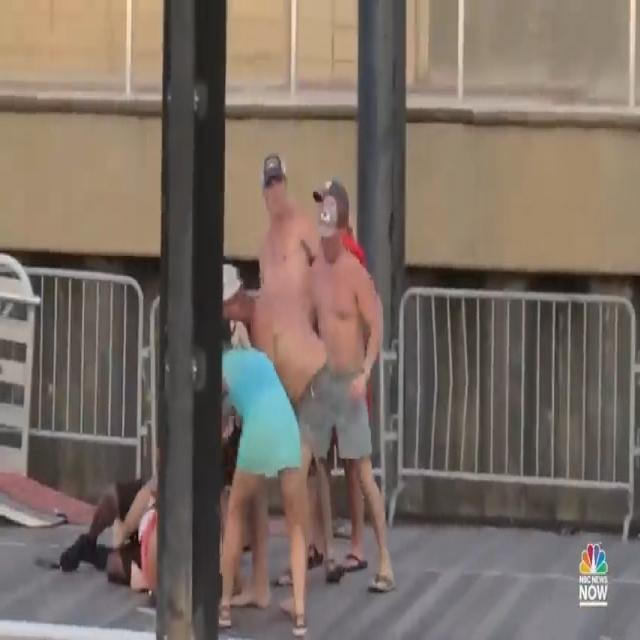fight: (57, 130, 412, 640)
